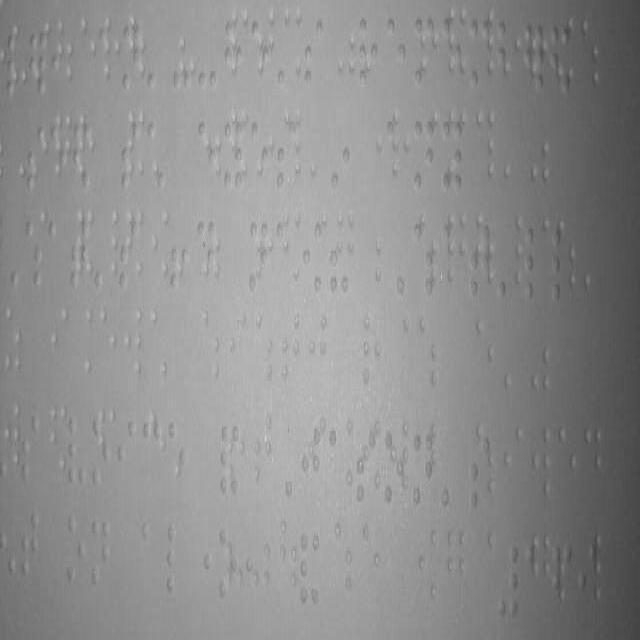braiile: (468, 434, 492, 512), (576, 540, 598, 624), (302, 18, 326, 94), (140, 517, 162, 599), (412, 430, 434, 508), (413, 118, 435, 194), (524, 225, 544, 308), (90, 516, 112, 590), (116, 417, 138, 490), (327, 428, 347, 506), (386, 13, 406, 89), (67, 413, 87, 489), (66, 511, 86, 587), (468, 18, 489, 89), (46, 218, 66, 292), (276, 119, 296, 192), (20, 509, 40, 580), (552, 228, 570, 306), (166, 521, 184, 599), (21, 414, 41, 484), (142, 419, 160, 488)
